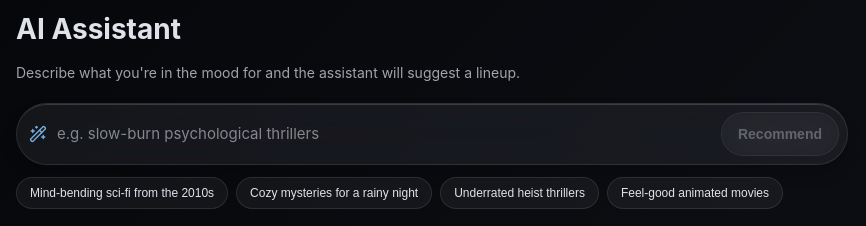
Test: Assistant - recommend flow (local provider) › disables Recommend until the prompt is non-empty
Expected: the button "Recommend" is disabled, [721,112,839,156]
Type "heist" into the field named "Describe what to watch" at (384, 134), box [55,117,713,151]
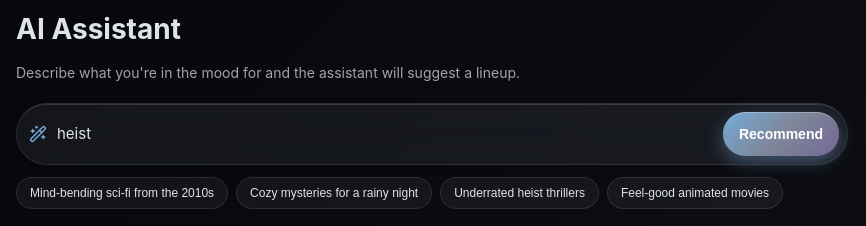
Expected: the button "Recommend" is enabled, [723,112,839,156]
